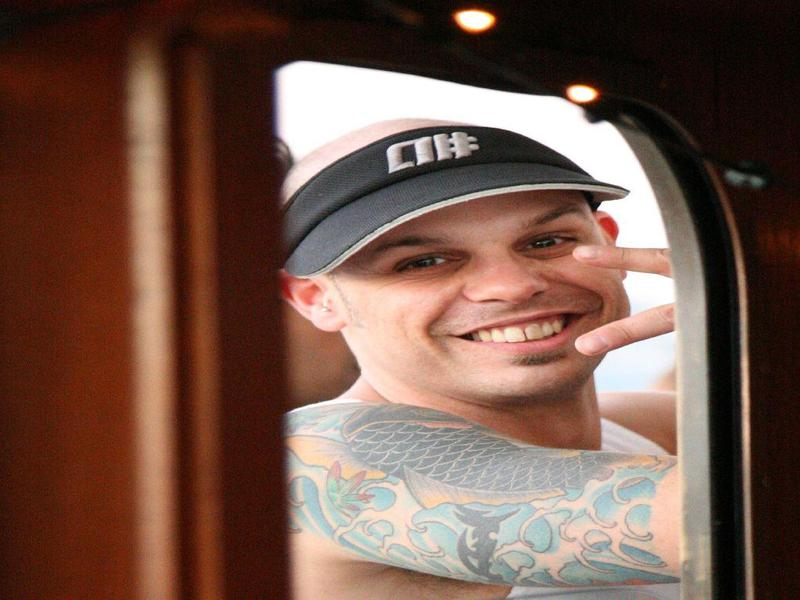person: (283, 116, 678, 600)
